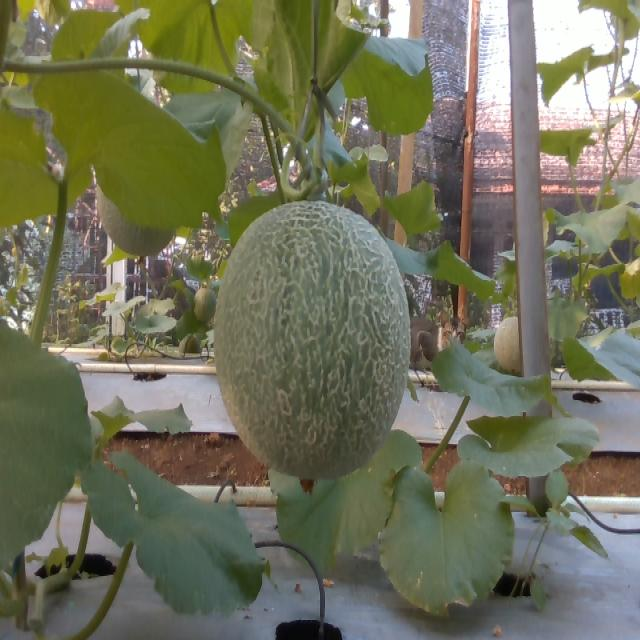melon: (216, 203, 411, 479)
